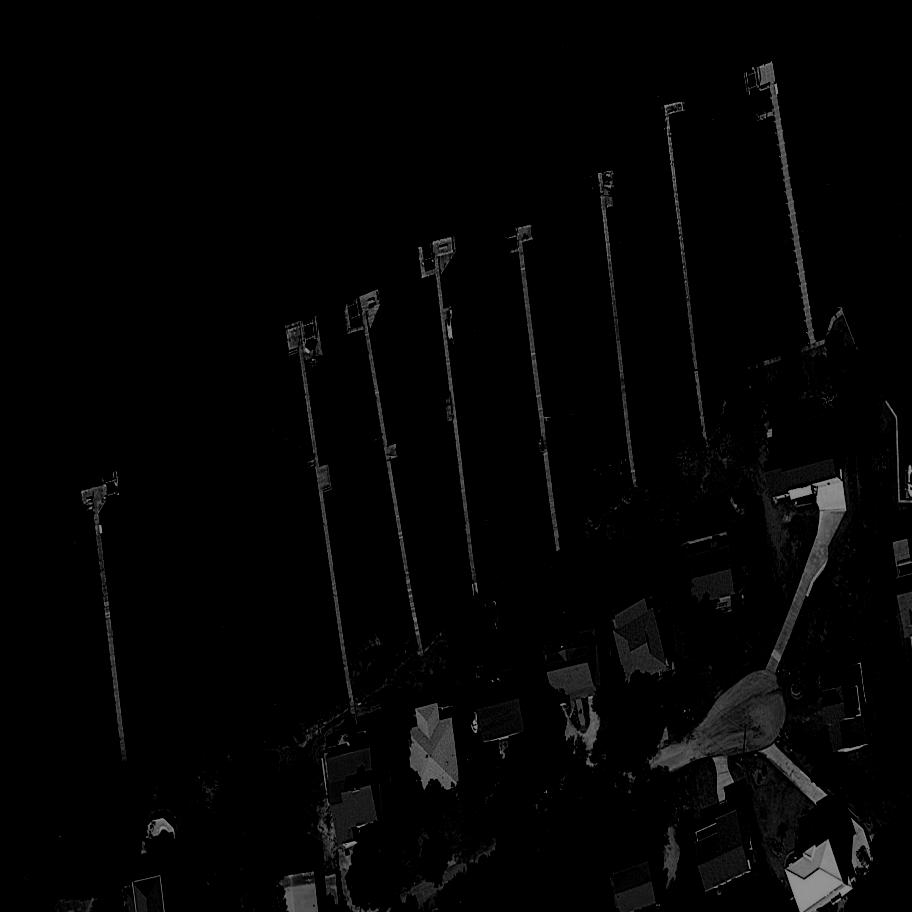ship: (604, 172, 612, 195)
small-vehicle: (855, 849, 874, 870)
